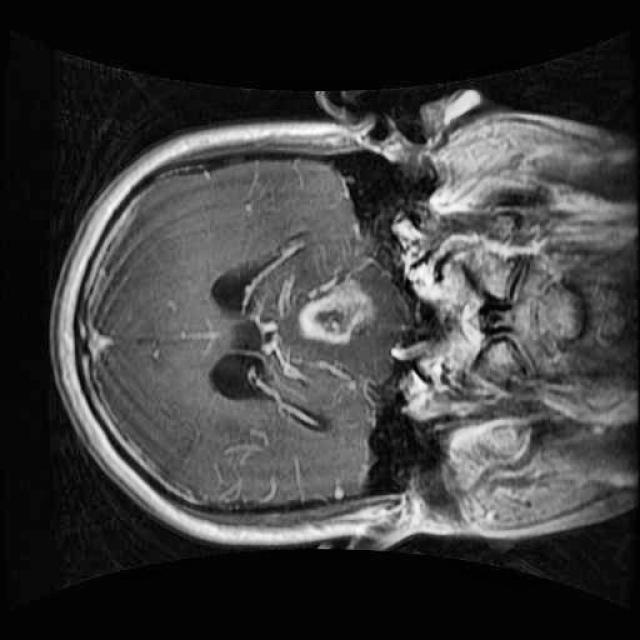Non-Tumor: (288, 260, 381, 359)
